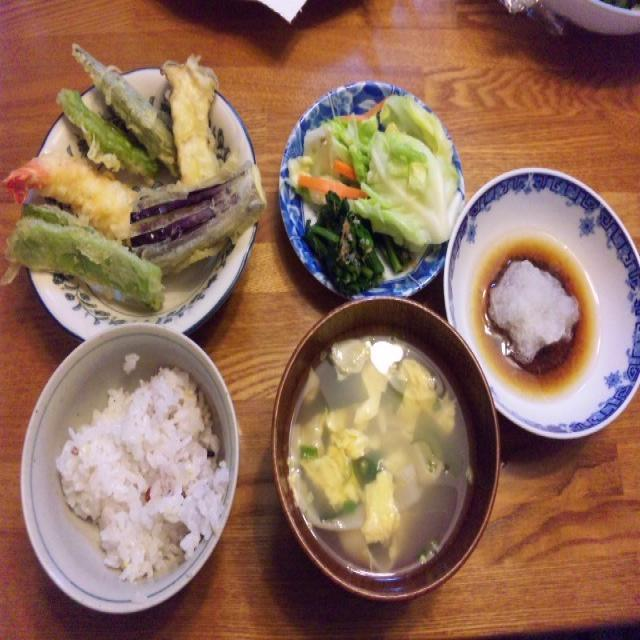Rice: (40, 344, 234, 588)
